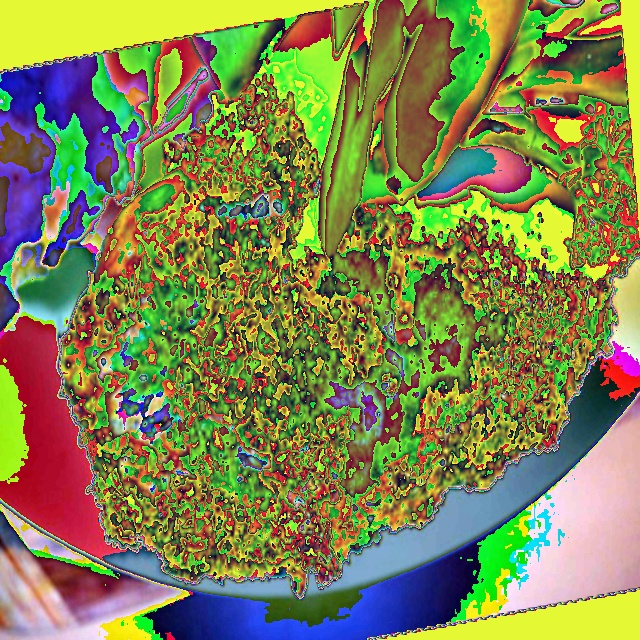background: (0, 0, 639, 599)
